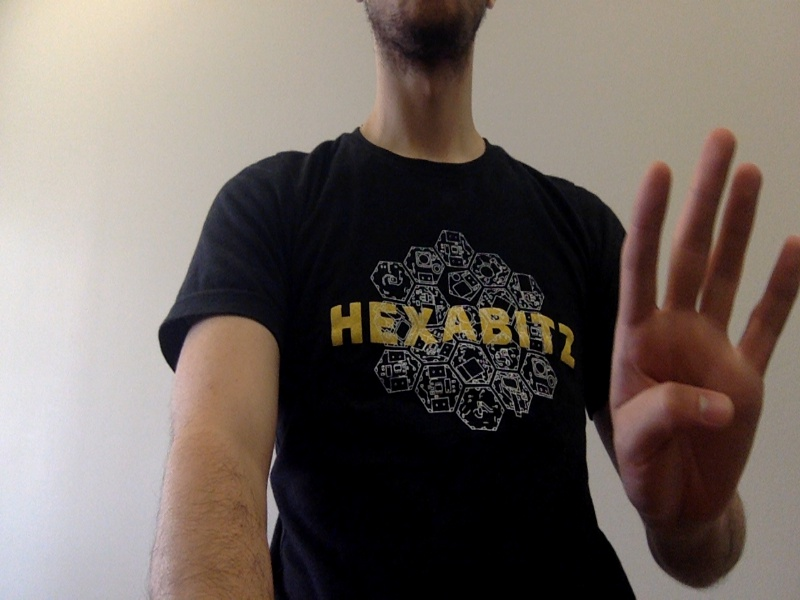4-hand: (613, 129, 800, 516)
